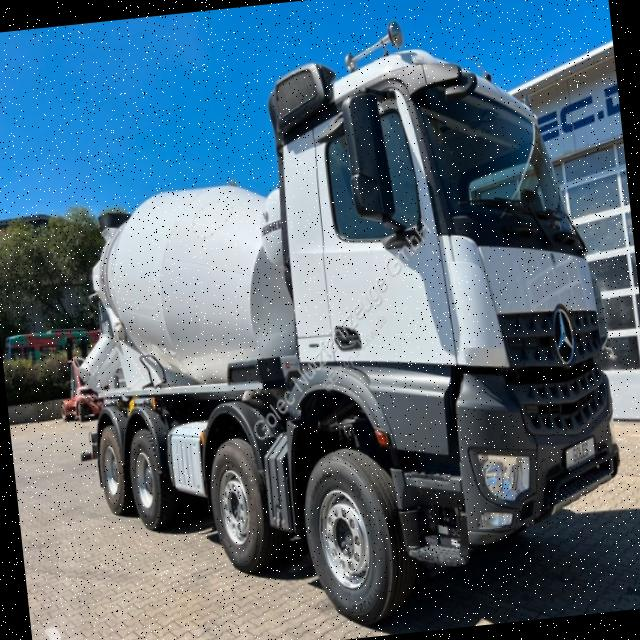Mixer Truck: (48, 32, 634, 640)
